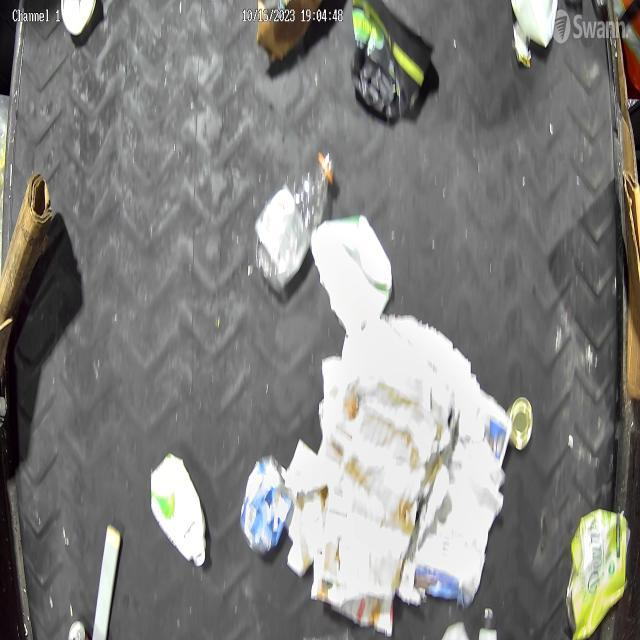can: (240, 454, 292, 556), (506, 397, 534, 453)
milk_jug: (310, 212, 394, 338), (150, 452, 208, 568)
non_white_jug: (349, 0, 437, 124), (565, 505, 631, 640)
plastic_bottle: (254, 146, 335, 298)
